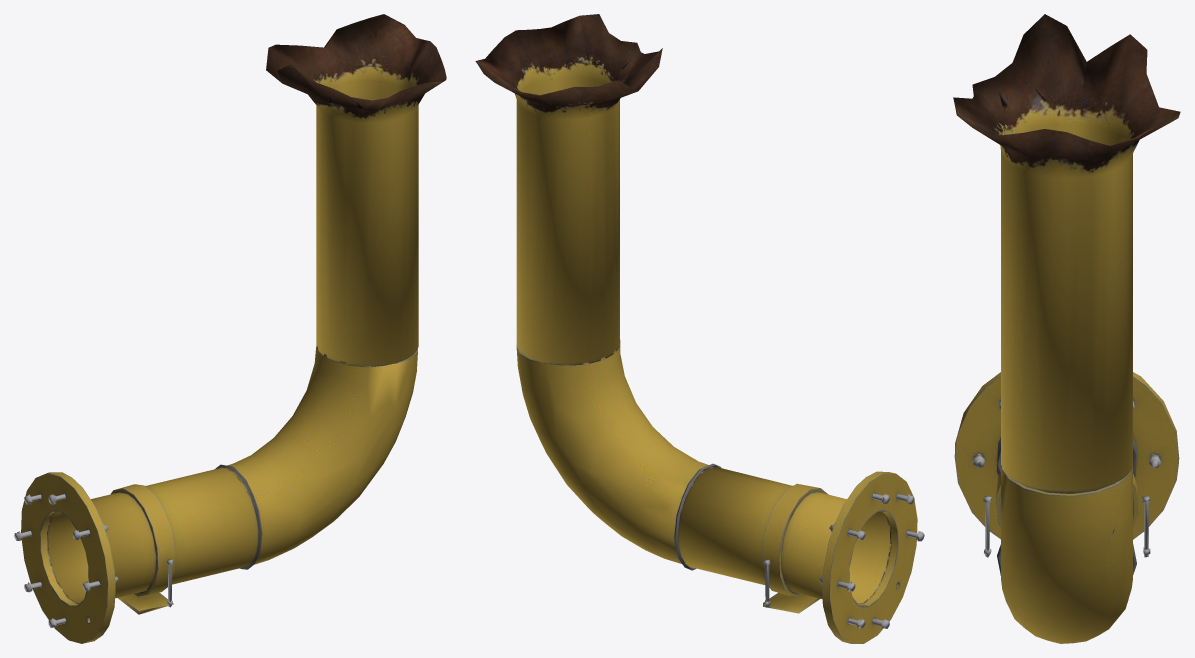
File: industrial_pipe_elbow_torn_lod1.glb
3 renders of one model, left to right at view 1: azimuth 30°, elevation 25°; view 2: azimuth 150°, elevation 25°; view 3: azimuth 270°, elevation 25°, orthographic. The views are drawn at different scales.
Parts seen in each view (by area): view 1: industrial_pipe_elbow_torn_paint, industrial_pipe_elbow_torn_bolt; view 2: industrial_pipe_elbow_torn_paint, industrial_pipe_elbow_torn_bolt; view 3: industrial_pipe_elbow_torn_paint, industrial_pipe_elbow_torn_bolt, industrial_pipe_elbow_torn_weld.
Part boxes in pixels (x1,y1,x2,y2): industrial_pipe_elbow_torn_paint: [21, 14, 446, 643]; industrial_pipe_elbow_torn_bolt: [14, 494, 173, 627]; industrial_pipe_elbow_torn_paint: [475, 14, 917, 643]; industrial_pipe_elbow_torn_bolt: [763, 493, 924, 628]; industrial_pipe_elbow_torn_paint: [953, 14, 1180, 643]; industrial_pipe_elbow_torn_bolt: [973, 400, 1160, 557]; industrial_pipe_elbow_torn_weld: [996, 437, 1137, 575].
Bounding box in the file's own units: 1.29 × 1.7 × 0.5169.
Materials: 3 (1 with a texture image).
